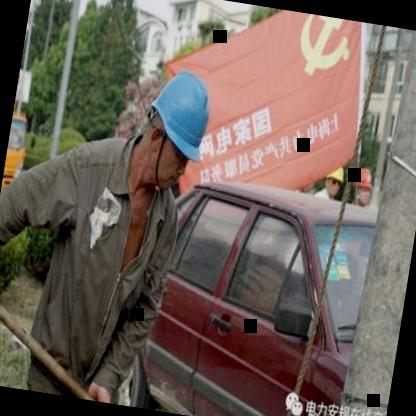helmet: (127, 49, 222, 200), (349, 162, 379, 210), (322, 160, 346, 198)
